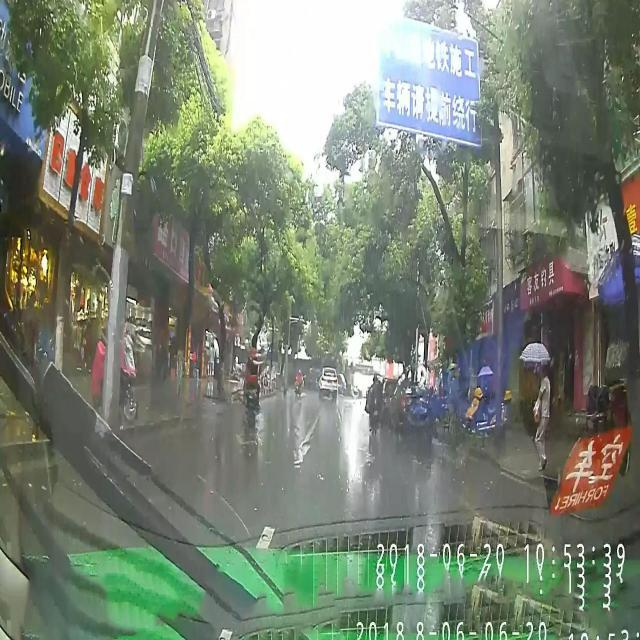car: (318, 362, 337, 400)
